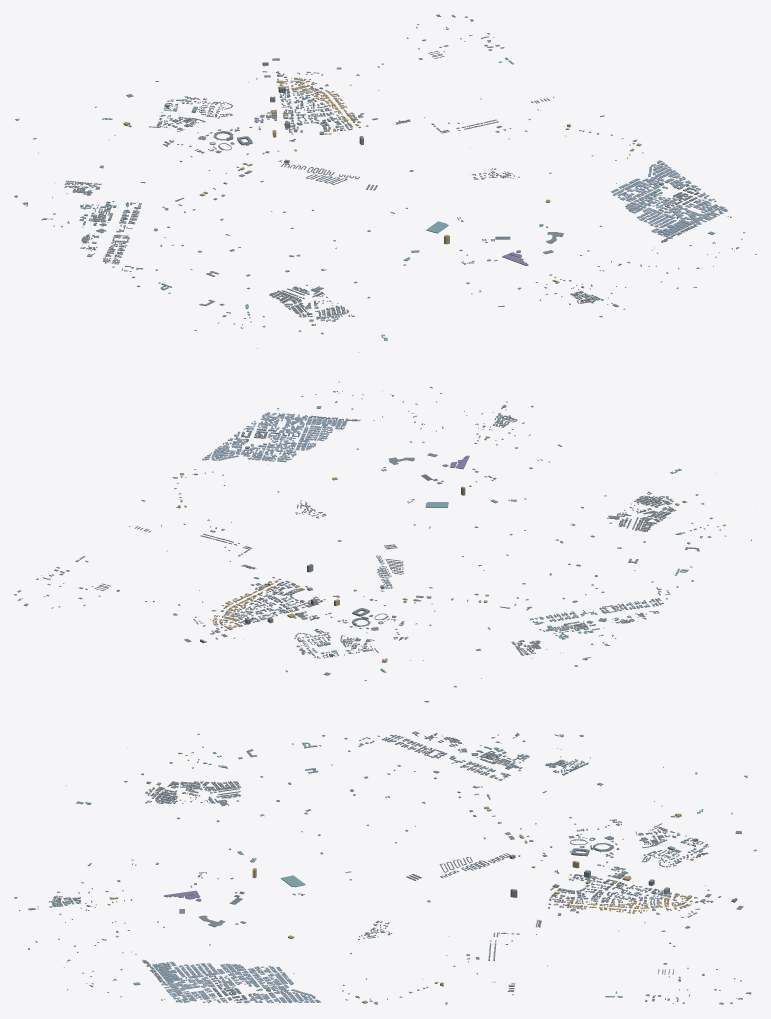
The model's file is high_pilot.glb.
3 renders of one model, top to bottom at view 1: azimuth 30°, elevation 25°; view 2: azimuth 150°, elevation 25°; view 3: azimuth 270°, elevation 25°, orthographic. The views are drawn at different scales.
Visible parts, largest first — view 1: building-unknown, building-residential, building-commercial, building-institutional; view 2: building-unknown, building-residential, building-commercial, building-institutional; view 3: building-unknown, building-residential, building-commercial, building-institutional.
Boxes of the visible parts, x1,y1,x2,y2 form: building-unknown: (14, 14, 745, 352); building-residential: (38, 71, 728, 324); building-commercial: (123, 77, 684, 328); building-institutional: (41, 35, 756, 340); building-unknown: (14, 390, 751, 702); building-residential: (193, 401, 721, 678); building-commercial: (176, 423, 725, 662); building-institutional: (47, 381, 711, 672); building-unknown: (14, 731, 756, 1004); building-residential: (77, 743, 747, 1003); building-commercial: (86, 752, 692, 1003); building-institutional: (28, 733, 705, 1004).
Bounding box in the file's own units: 7746 × 106 × 8909.
